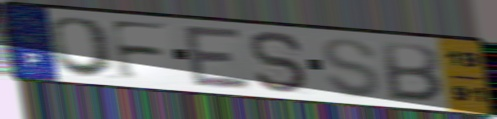B: (380, 39, 446, 105)
E: (180, 23, 256, 92)
F: (106, 18, 172, 83)
O: (46, 15, 119, 80)
S: (248, 29, 313, 96), (320, 36, 384, 100)
